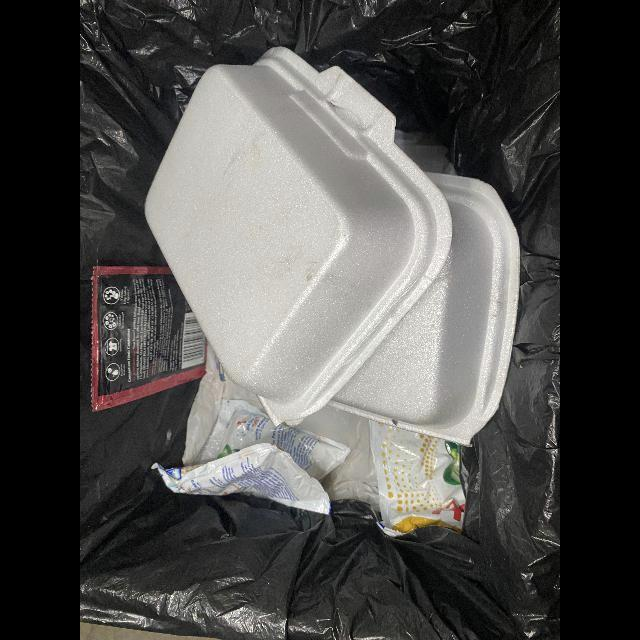plastic_sachet: (155, 400, 351, 515), (91, 266, 207, 413), (369, 419, 467, 537)
